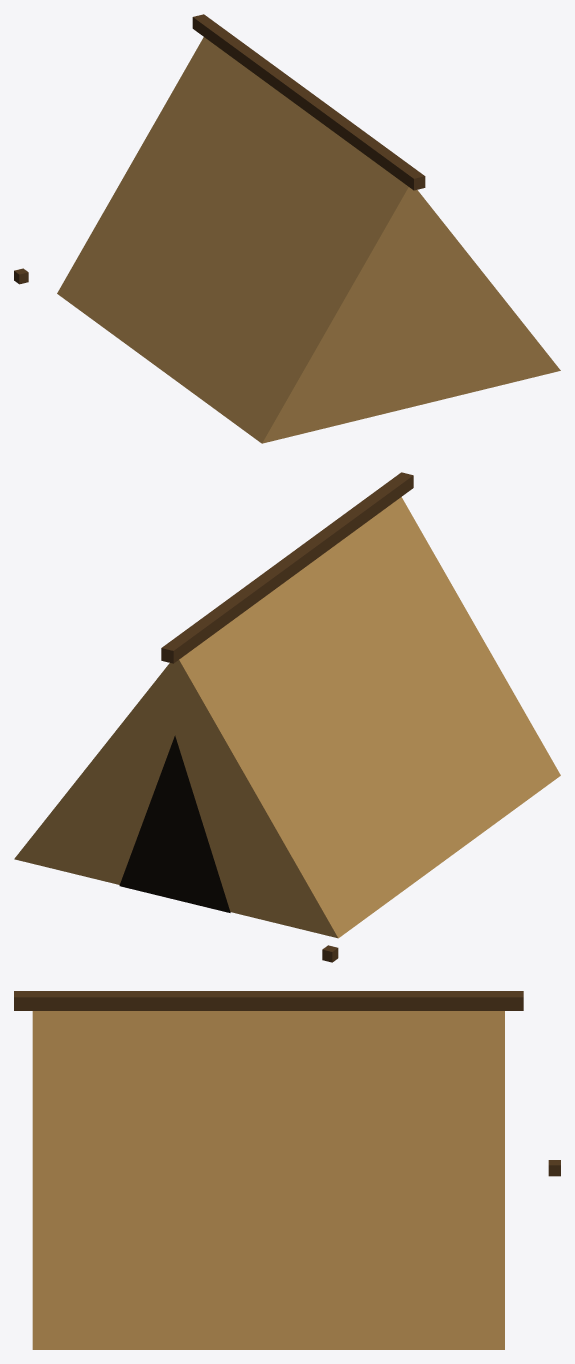
The model's file is tent.glb.
3 renders of one model, top to bottom at view 1: azimuth 30°, elevation 25°; view 2: azimuth 150°, elevation 25°; view 3: azimuth 270°, elevation 25°, orthographic. The views are drawn at different scales.
Parts seen in each view (by area): view 1: tent; view 2: tent; view 3: tent.
Boxes of the visible parts, <box> form: tent: <box>14,14,560,443</box>; tent: <box>14,472,560,962</box>; tent: <box>14,991,560,1349</box>.
Bounding box in the file's own units: 3.4 × 2.41 × 4.4.
